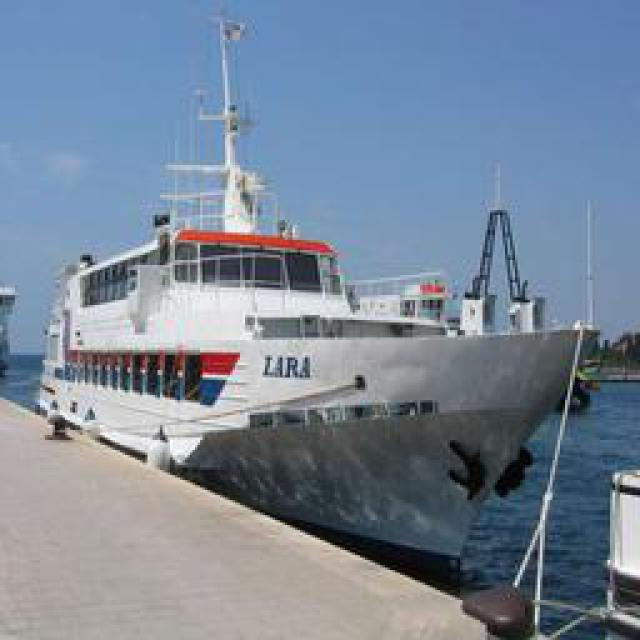Ship: (45, 12, 600, 585)
